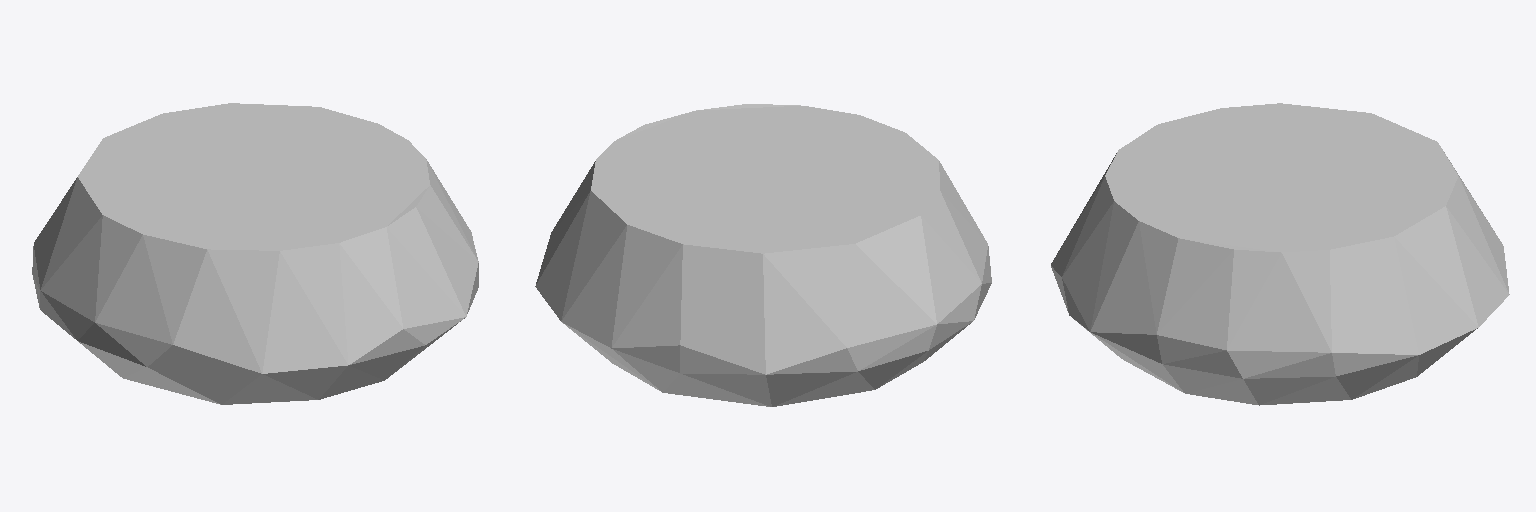
Rendered from col-kuka-link7.obj.
3 renders of one model, left to right at view 1: azimuth 30°, elevation 25°; view 2: azimuth 150°, elevation 25°; view 3: azimuth 270°, elevation 25°, orthographic.
Bounding box in the file's own units: 79.61 × 31.19 × 82.26.